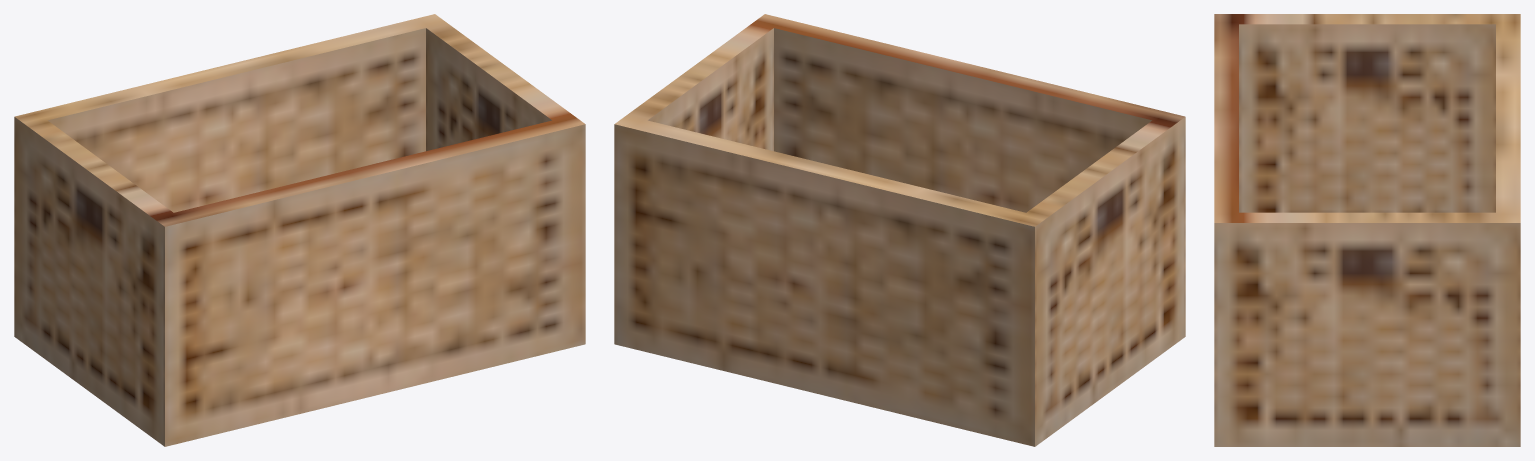
File: BasketWicker01.obj
The picture shows the model from 3 angles, left to right: view 1: azimuth 30°, elevation 25°; view 2: azimuth 150°, elevation 25°; view 3: azimuth 270°, elevation 25°; orthographic projection.
Parts seen in each view (by area): view 1: BasketWicker01; view 2: BasketWicker01; view 3: BasketWicker01.
Part boxes in pixels (x1,y1,x2,y2): BasketWicker01: [14, 14, 585, 446]; BasketWicker01: [614, 14, 1185, 446]; BasketWicker01: [1214, 14, 1520, 446].
Size of the model in its own units: 1 by 0.5 by 0.62.
